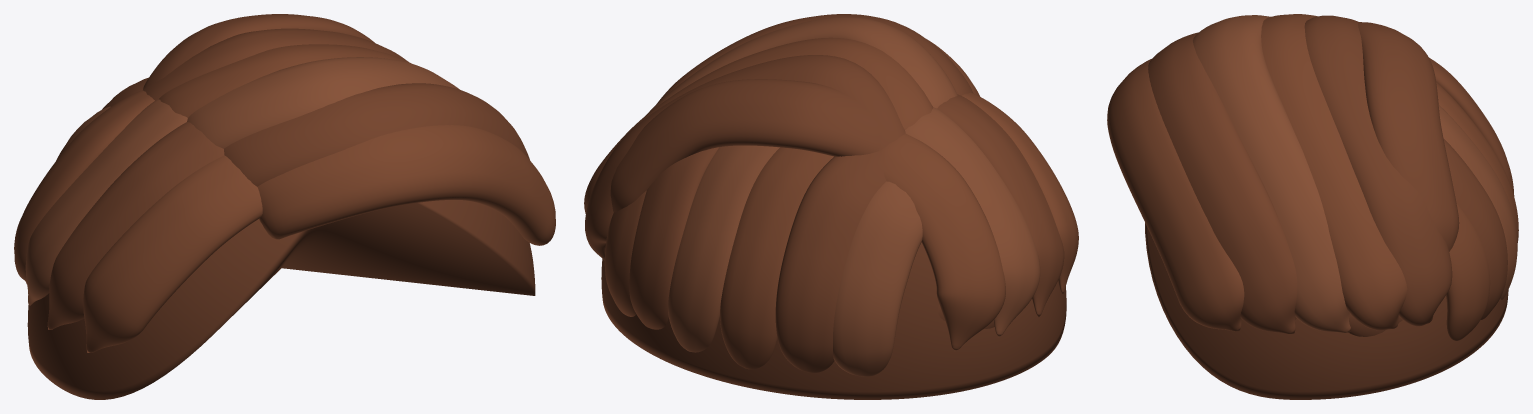
Rendered from Masculine-sidepart-hair258.glb.
The picture shows the model from 3 angles, left to right: view 1: azimuth 30°, elevation 25°; view 2: azimuth 150°, elevation 25°; view 3: azimuth 270°, elevation 25°; orthographic projection. The views are drawn at different scales.
Visible parts, largest first — view 1: 226 hair / Hair258 / sculpted side sweep 1, 226 hair / Hair258 / recessed roots, 226 hair / Hair258 / sculpted side sweep 0, 226 hair / Hair258 / sculpted side sweep 2; view 2: 226 hair / Hair258 / sculpted side sweep 0, 226 hair / Hair258 / sculpted side sweep 1, 226 hair / Hair258 / sculpted side sweep 2, 226 hair / Hair258 / recessed roots; view 3: 226 hair / Hair258 / sculpted side sweep 0, 226 hair / Hair258 / sculpted side sweep 1, 226 hair / Hair258 / sculpted side sweep 2, 226 hair / Hair258 / recessed roots.
Boxes of the visible parts, x1,y1,x2,y2 form: 226 hair / Hair258 / sculpted side sweep 1: (14,44,555,352); 226 hair / Hair258 / recessed roots: (27,200,535,399); 226 hair / Hair258 / sculpted side sweep 0: (47,14,529,329); 226 hair / Hair258 / sculpted side sweep 2: (25,57,459,305); 226 hair / Hair258 / sculpted side sweep 0: (585,14,1064,372); 226 hair / Hair258 / sculpted side sweep 1: (584,37,1078,369); 226 hair / Hair258 / sculpted side sweep 2: (646,17,1040,376); 226 hair / Hair258 / recessed roots: (601,242,1066,399); 226 hair / Hair258 / sculpted side sweep 0: (1148,15,1514,336); 226 hair / Hair258 / sculpted side sweep 1: (1107,14,1518,340); 226 hair / Hair258 / sculpted side sweep 2: (1193,15,1517,332); 226 hair / Hair258 / recessed roots: (1145,223,1508,399).
Size of the model in its own units: 0.9741 by 0.5696 by 0.7913.
